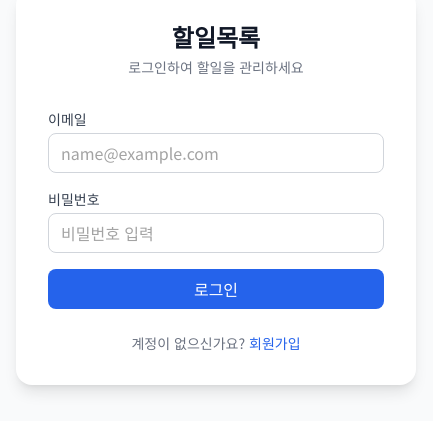
Test case: LoginPage › 비밀번호 미입력 시 에러 메시지가 표시된다
Type "test@example.com" into the field labelled "이메일".
click(216, 153); type("test@example.com")  # box left=48, top=133, right=384, bottom=173
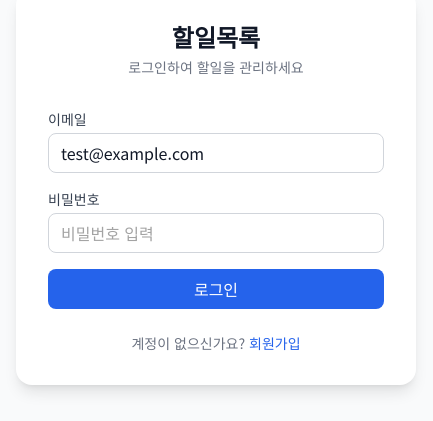
Click the button "로그인".
click(216, 289)  # box left=48, top=269, right=384, bottom=309
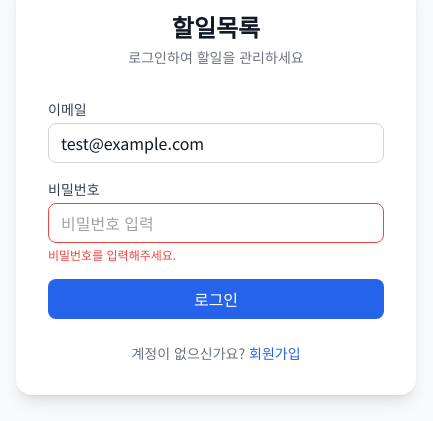
Now the text "비밀번호를 입력해주세요." is shown, box left=48, top=246, right=176, bottom=263
